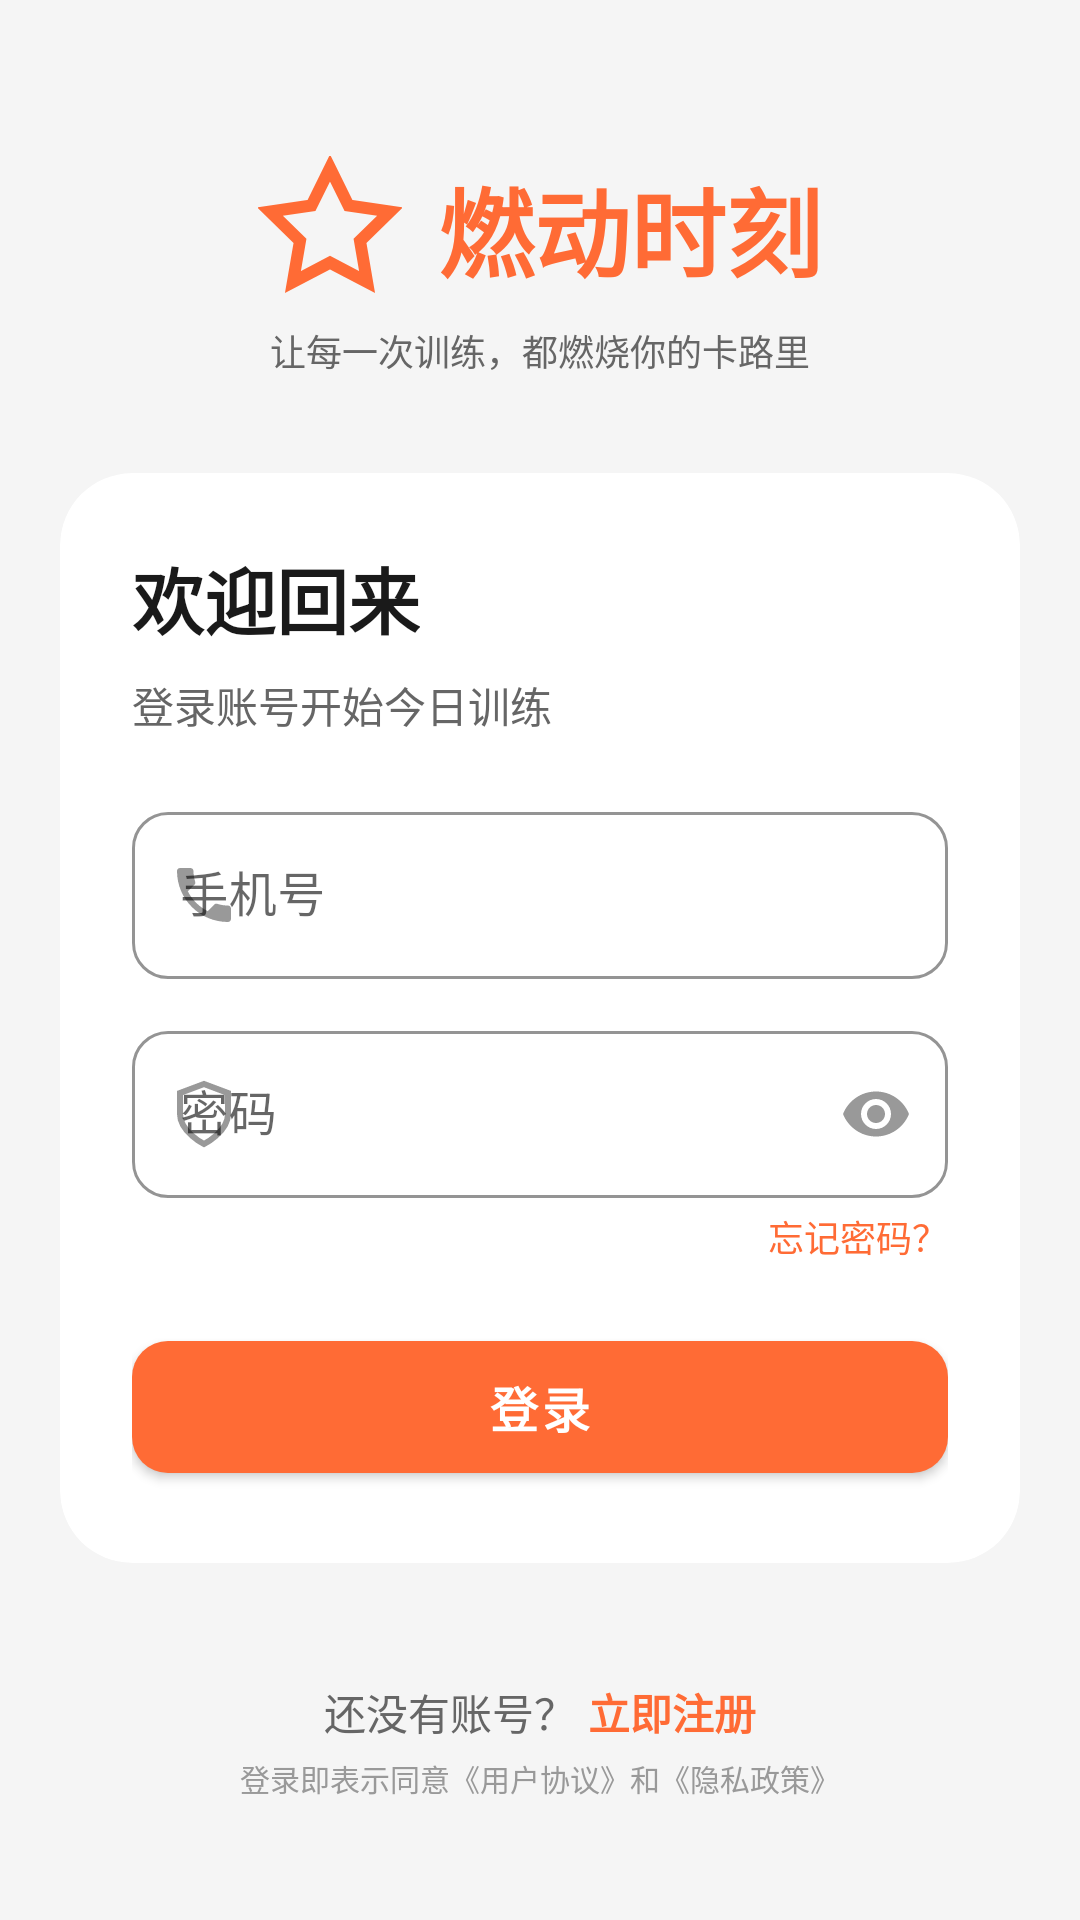

Icons on this 1080px x 1920px Android screen, each with its box as (x1, y1, x2, y2):
star: (258, 156, 402, 293)
